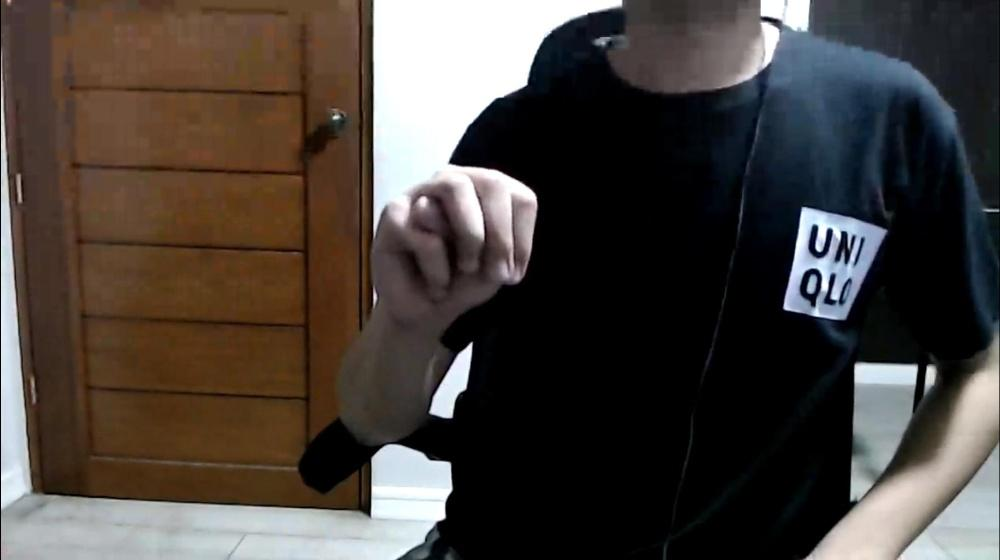m: (371, 164, 539, 314)
